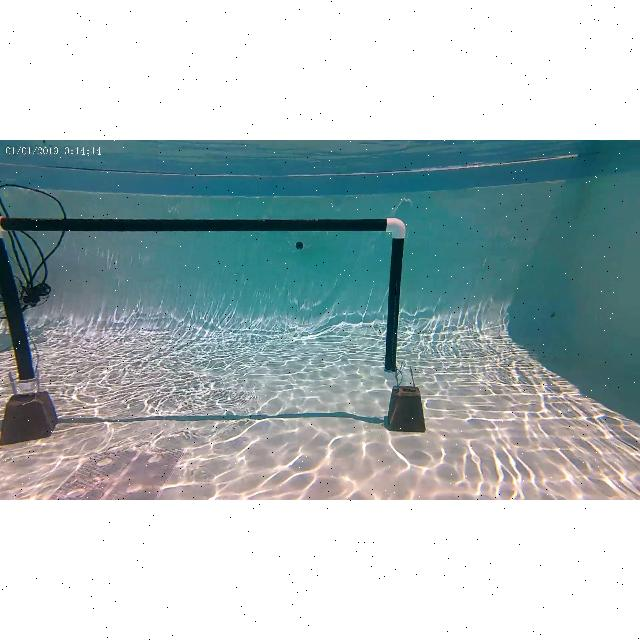prequal gate: (0, 218, 406, 390)
prequal gate leg l: (0, 219, 60, 439)
prequal gate leg r: (374, 216, 432, 438)
